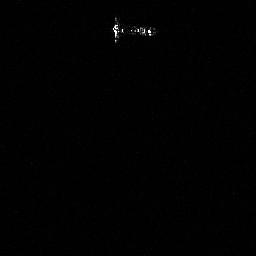ship: (109, 13, 160, 46)
